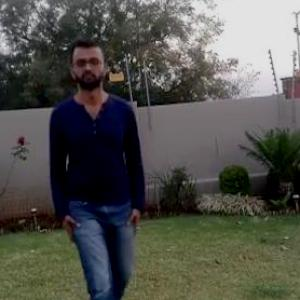follow: (53, 47, 147, 299)
